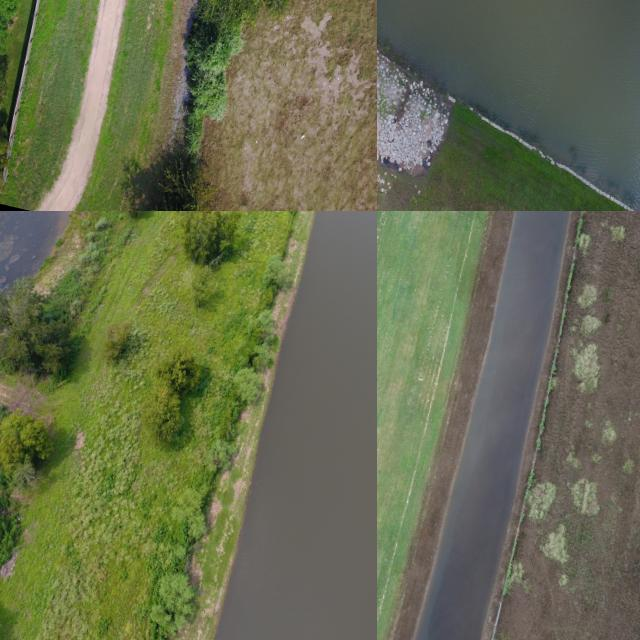fire: (214, 211, 377, 640), (413, 211, 570, 640), (377, 0, 640, 211)
